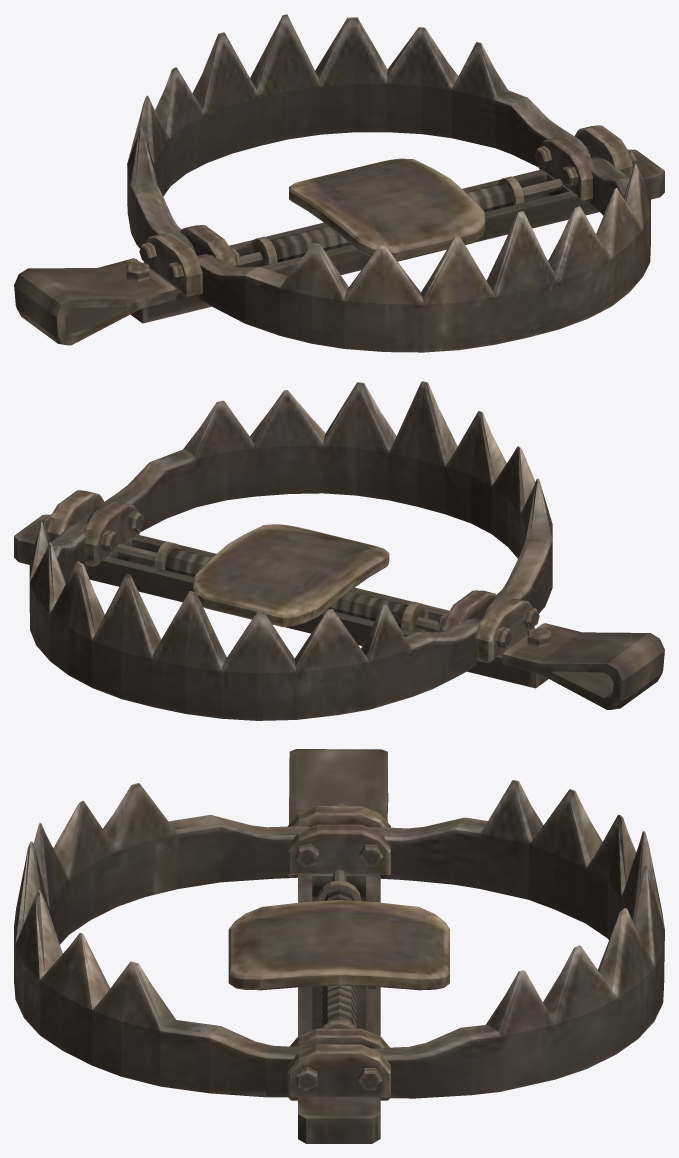
The model's file is trap.gltf.
3 views of the same model, one above another, from view 1: azimuth 30°, elevation 25°; view 2: azimuth 150°, elevation 25°; view 3: azimuth 270°, elevation 25° (orthographic). The views are drawn at different scales.
Visible parts, largest first — view 1: trap; view 2: trap; view 3: trap.
Boxes of the visible parts, x1,y1,x2,y2 form: trap: (14, 14, 664, 352); trap: (14, 381, 664, 720); trap: (14, 749, 664, 1143).
Size of the model in its own units: 59.28 by 12.36 by 46.88.
1 material, 1 textured.
